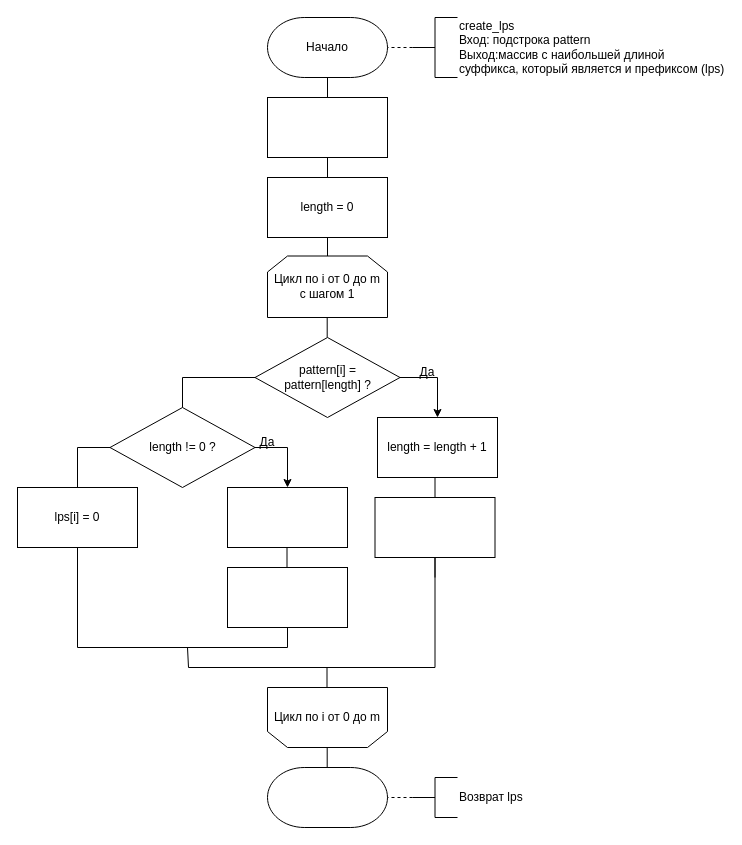
Image size: 742x845. Some labels were removed from this diagram. Here are the shapes that lost their labels. From the top down, the centre of each, then its label:
pixel 327 127: m = длина подстроки
pixel 287 517: length = lps[length-1]
pixel 434 527: lps[i] = length
pixel 287 597: i = i - 1
pixel 327 797: Конец
